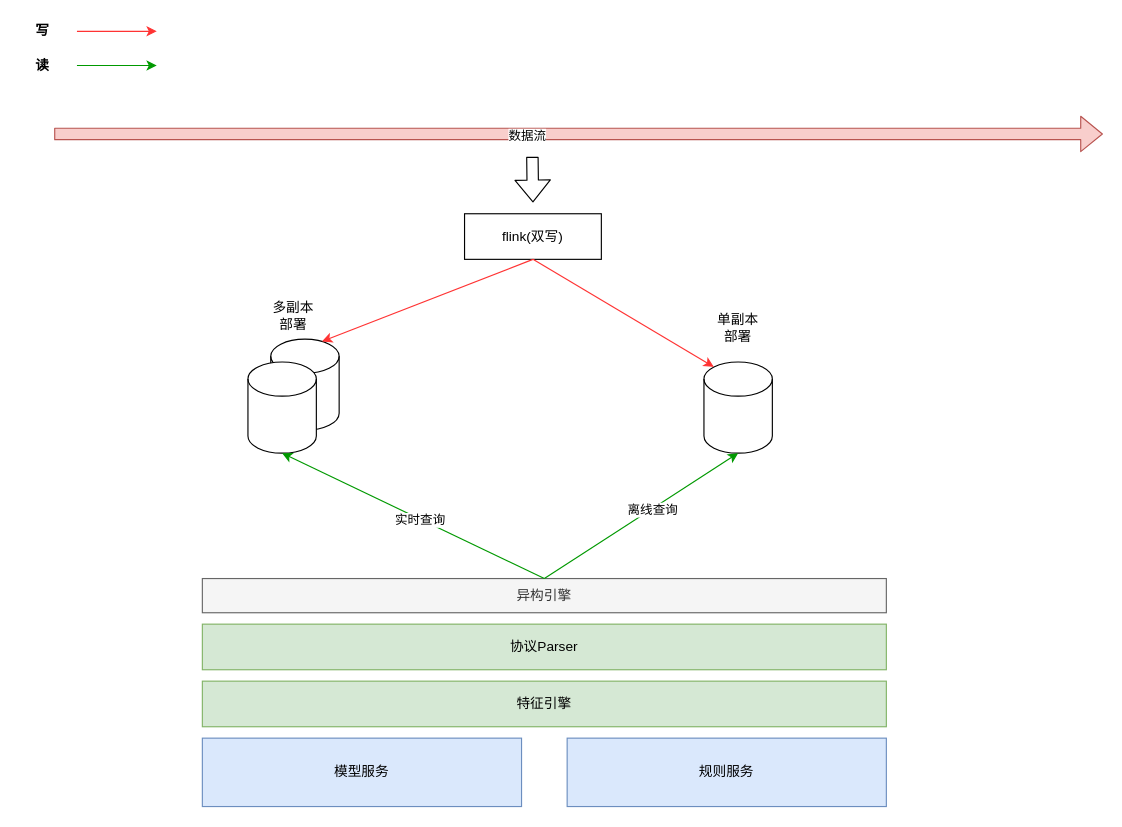
Image size: 1122x827. Some labels were removed from this diagram. The centre of each missing label's shape, as x and y in pixels:
HBase: the point at 737,407
redis: the point at 281,407
